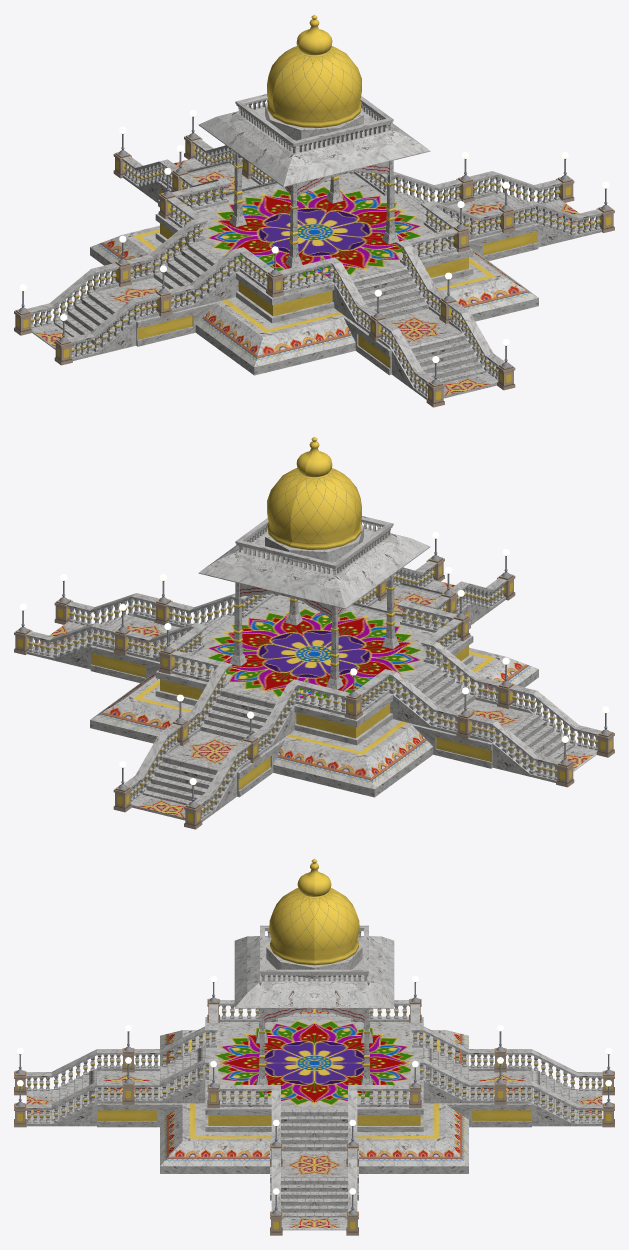
File: indian_gazebo.glb
3 renders of one model, top to bottom at view 1: azimuth 30°, elevation 25°; view 2: azimuth 150°, elevation 25°; view 3: azimuth 270°, elevation 25°, orthographic. The views are drawn at different scales.
Visible parts, largest first — view 1: Base_low (4), Base_low, Base_low (3), Base_low (2), Top_low (4), Roof_low (4), Stairs_low, Stairs_low (4), Roof_low, Stairs_low (3), RailL3_low (4), Top_low (+38 smaller); view 2: Base_low (3), Base_low (2), Base_low (4), Base_low, Top_low (3), Roof_low (3), Stairs_low (2), Stairs_low (3), Roof_low (2), Stairs_low (4), RailL3_low (3), Top_low (2) (+38 smaller); view 3: Base_low, Base_low (2), Base_low (3), Base_low (4), Stairs_low, Stairs_low (2), Roof_low, Roof_low (2), Top_low, Top_low (2), RailL3_low, RailL3_low (2) (+30 smaller).
Boxes of the visible parts, x1,y1,x2,y2 form: Base_low (4): (114,232,429,375); Base_low: (315,207,538,340); Base_low (3): (90,171,313,305); Base_low (2): (199,164,511,231); Top_low (4): (273,14,338,127); Roof_low (4): (241,119,356,187); Stairs_low: (373,206,574,380); Stairs_low (4): (72,256,454,382); Roof_low: (337,107,430,169); Stairs_low (3): (54,169,255,336); RailL3_low (4): (167,249,376,333); Top_low: (314,15,361,124); Base_low (3): (199,654,514,797); Base_low (2): (90,629,313,762); Base_low (4): (315,593,538,727); Base_low: (117,586,429,653); Top_low (3): (290,436,355,549); Roof_low (3): (272,541,387,609); Stairs_low (2): (54,628,255,802); Stairs_low (3): (174,678,556,804); Roof_low (2): (198,529,291,591); Stairs_low (4): (373,591,574,758); RailL3_low (3): (252,671,461,755); Top_low (2): (267,437,314,546); Base_low: (97,1063,314,1200); Base_low (2): (314,1063,531,1200); Base_low (3): (314,1008,531,1081); Base_low (4): (97,1008,314,1081); Stairs_low: (51,1065,314,1217); Stairs_low (2): (314,1065,577,1217); Roof_low: (234,947,314,1008); Roof_low (2): (314,947,394,1008); Top_low: (269,858,314,965); Top_low (2): (314,859,359,965); RailL3_low: (134,1058,280,1142); RailL3_low (2): (348,1058,494,1142).
Size of the model in its own units: 143300 by 65859 by 143300.
Materials: 1 (1 with a texture image).
